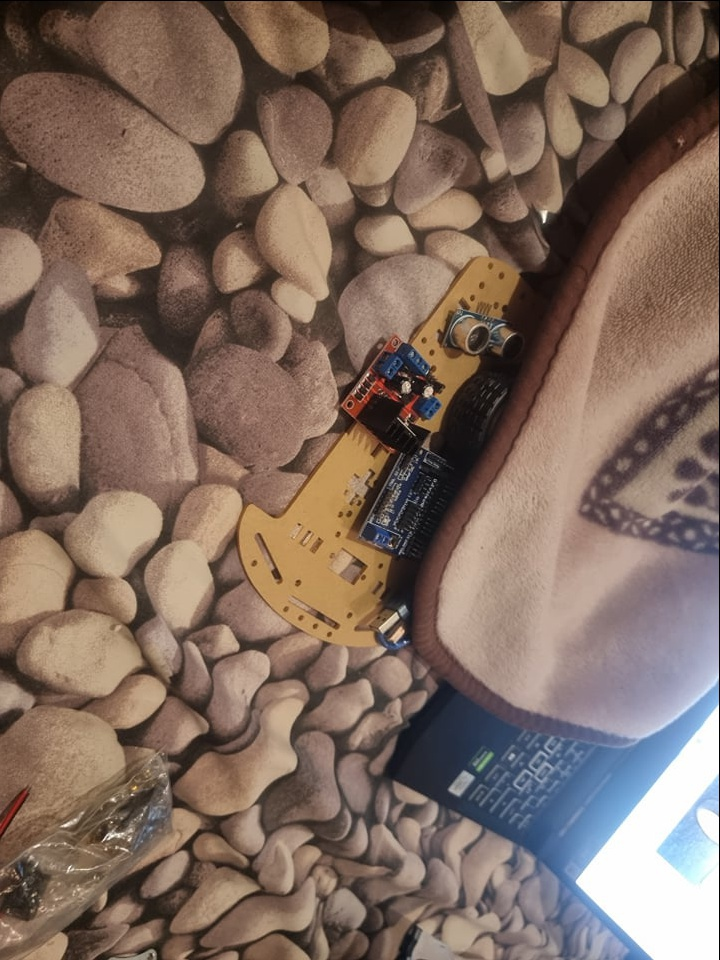5V EXPANSION: (357, 448, 462, 560)
MOTOR: (338, 329, 450, 452)
SENSOR: (440, 305, 533, 355)
